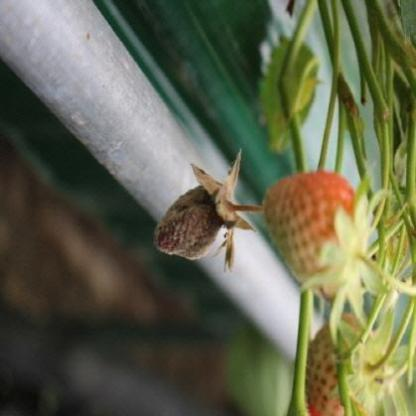Strawberry_Gray_Mold: (152, 148, 264, 274)
